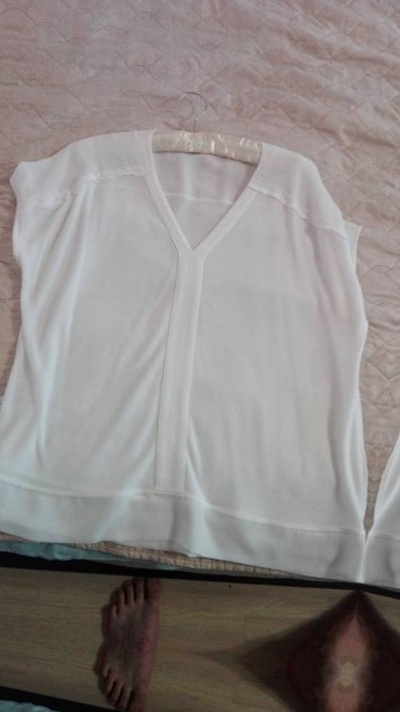Blouse: (0, 73, 400, 609), (362, 130, 400, 666), (0, 683, 333, 712)
